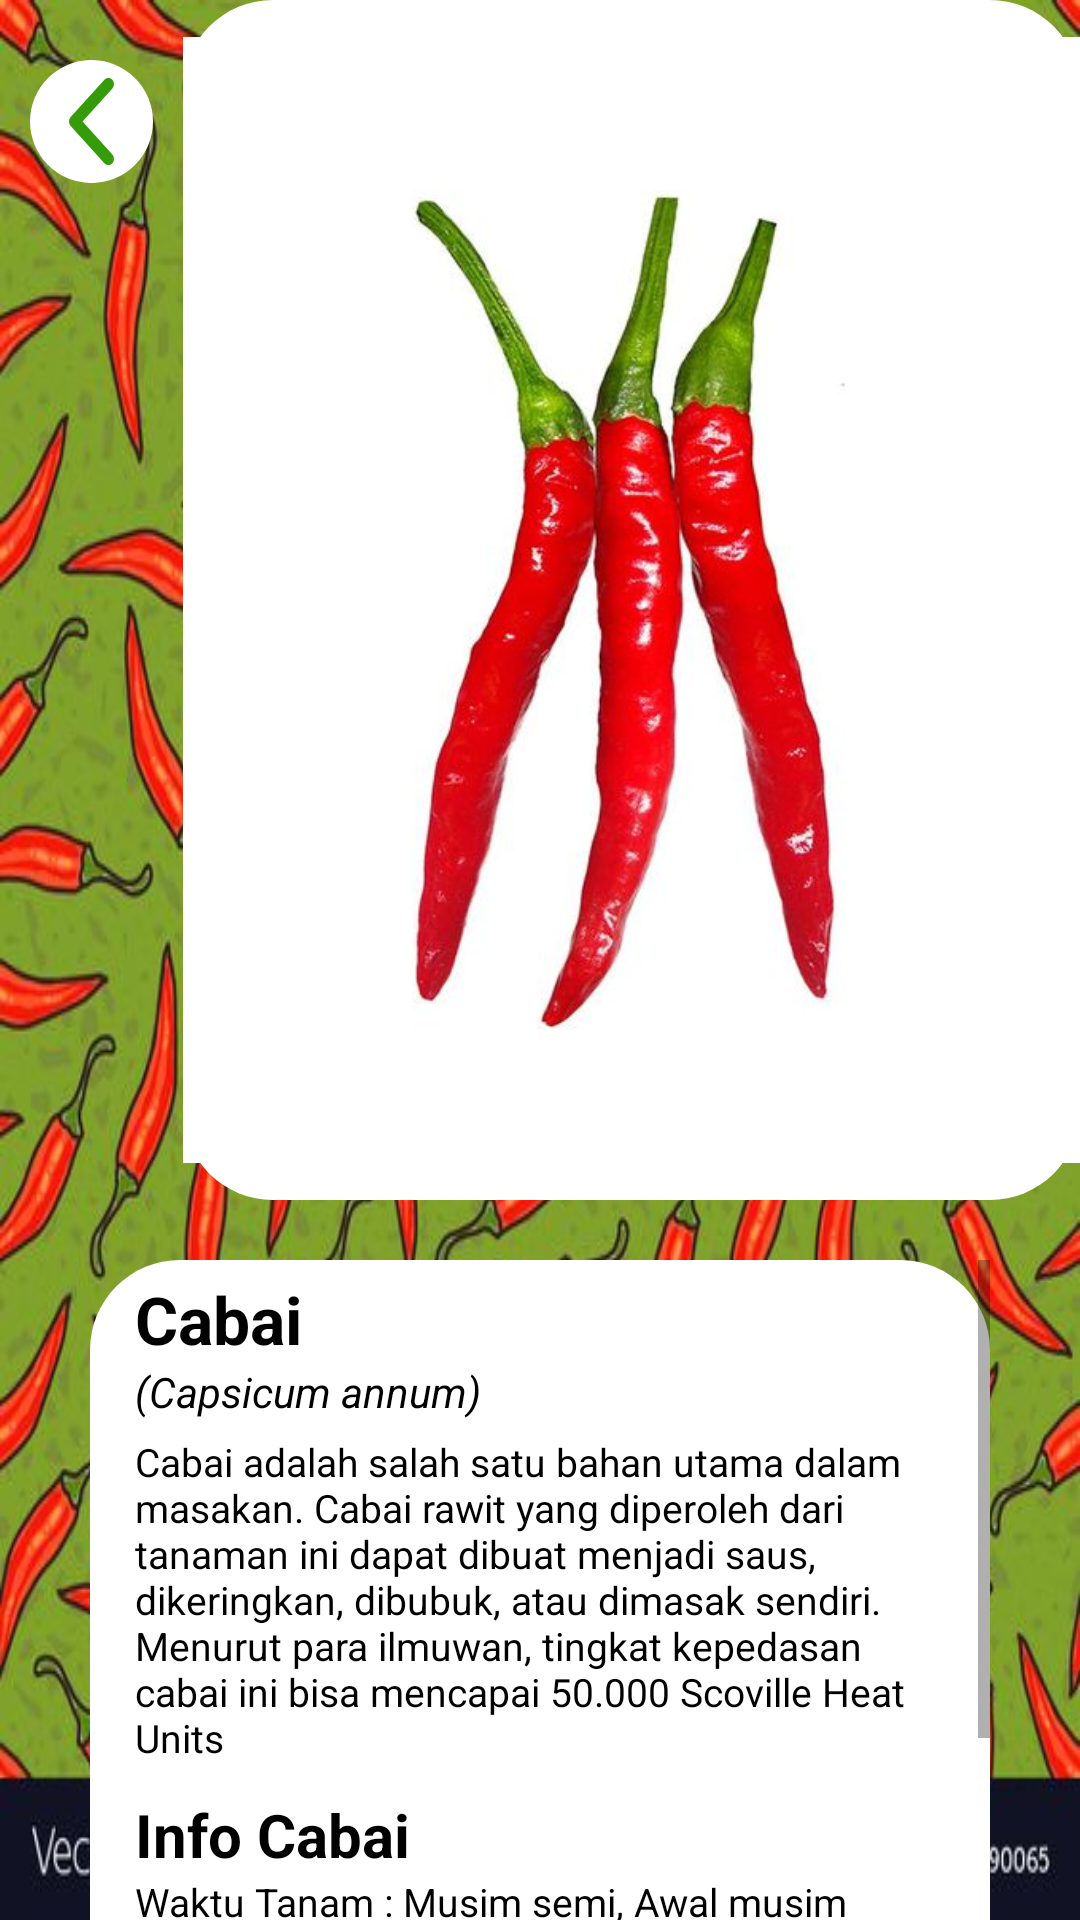

Icon click points for this 1080×1920 phone screenshot, format [x,y]:
backgreen: [91,121]
